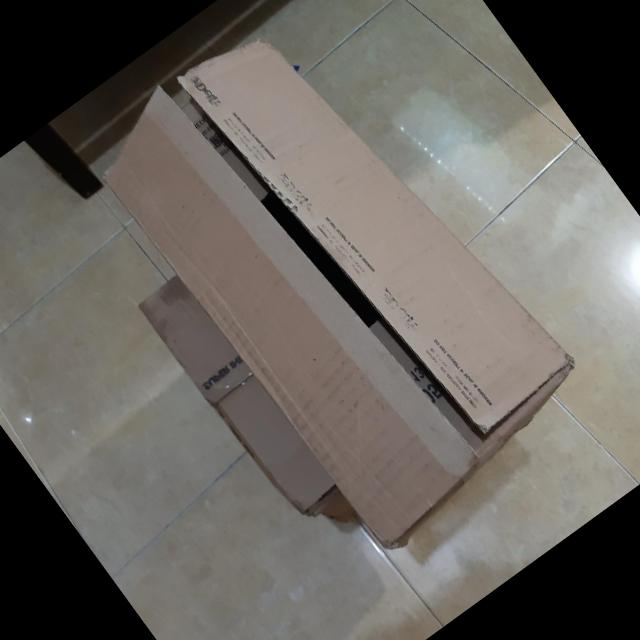Kardus: (74, 0, 603, 561), (134, 268, 356, 543)
